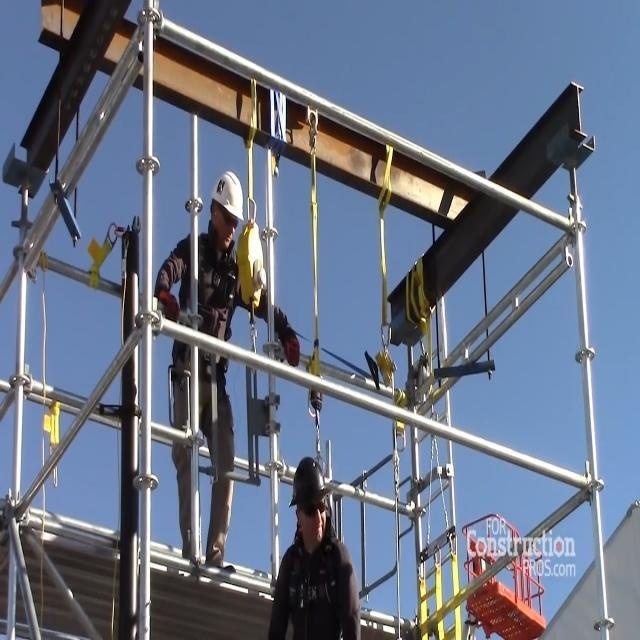Arnes_seguridad: (176, 220, 239, 435), (285, 471, 343, 640)
